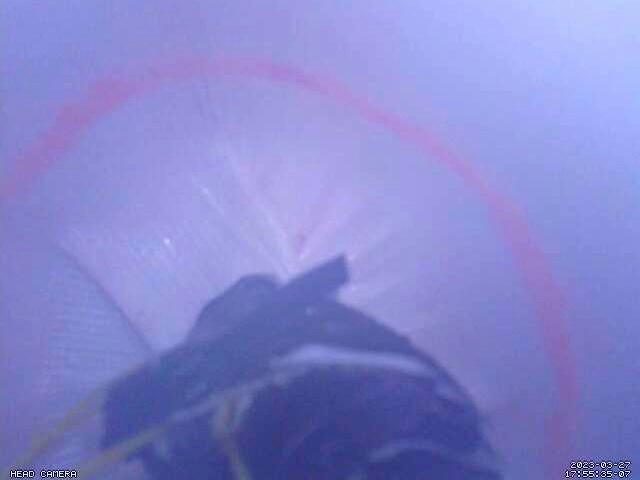head: (1, 53, 591, 480)
